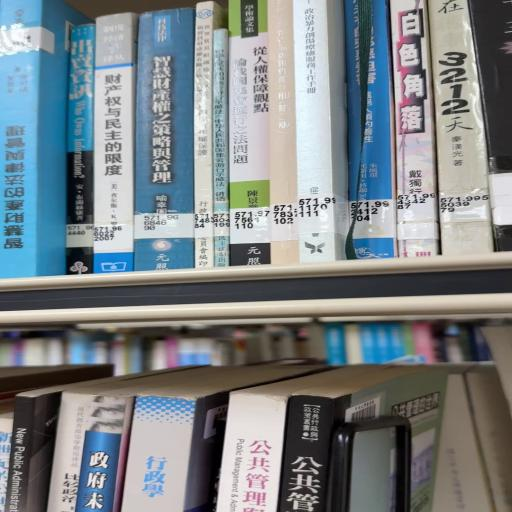reverse: (1, 1, 92, 279)
